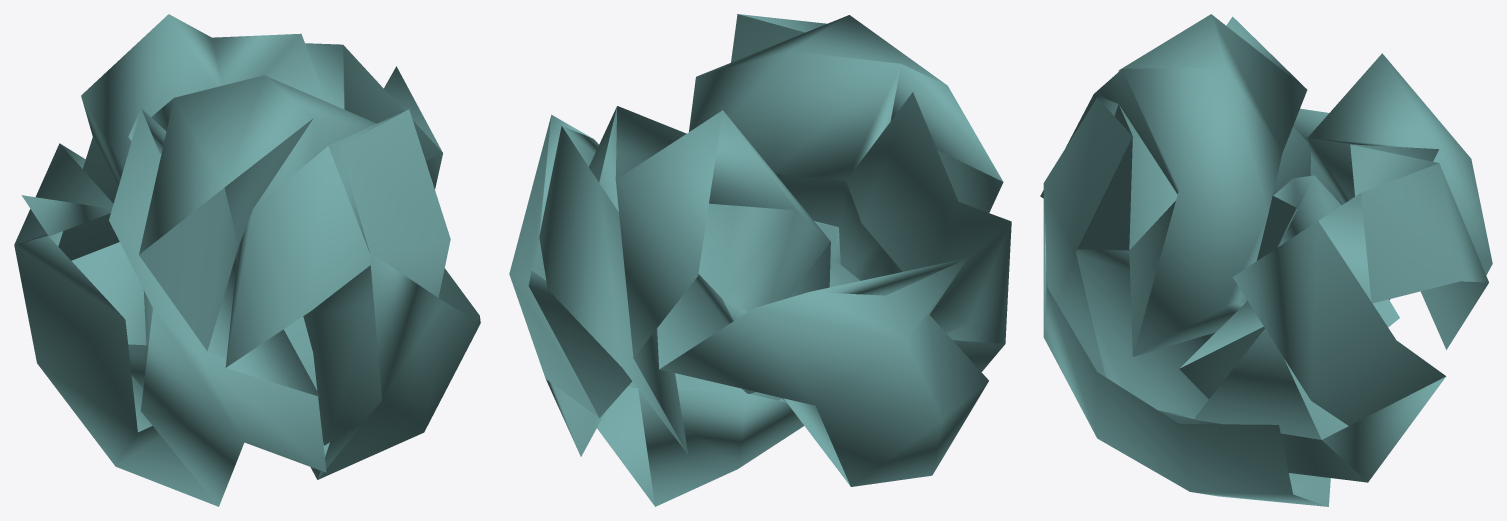
The model's file is Paper.fbx.
3 views of the same model, side by side, from view 1: azimuth 30°, elevation 25°; view 2: azimuth 150°, elevation 25°; view 3: azimuth 270°, elevation 25° (orthographic). The views are drawn at different scales.
Visible parts, largest first — view 1: paper001; view 2: paper001; view 3: paper001.
Part boxes in pixels (x1,y1,x2,y2): paper001: (14,14,480,506); paper001: (509,14,1011,506); paper001: (1040,14,1492,506).
Bounding box in the file's own units: 49.22 × 49.22 × 49.22.
